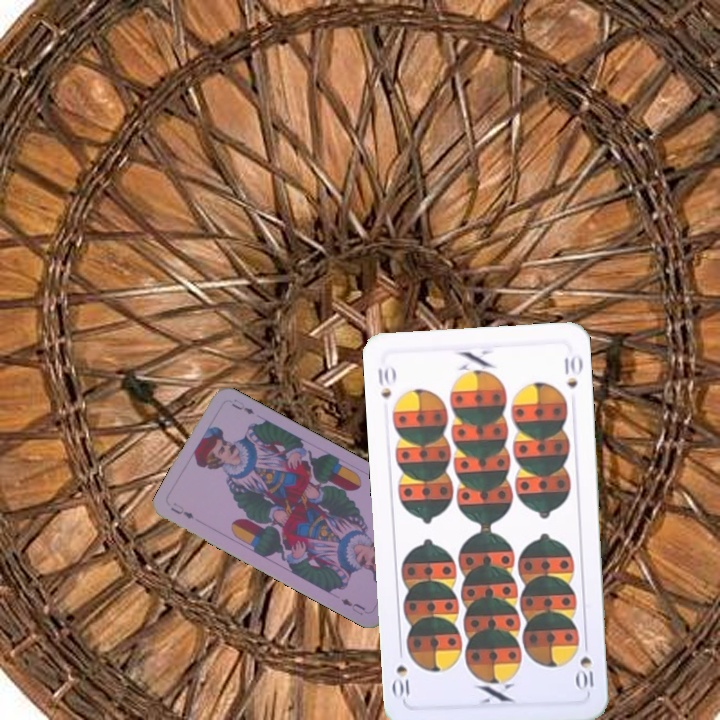EU: (166, 498, 196, 521)
S10: (374, 361, 398, 402), (574, 652, 596, 693)
